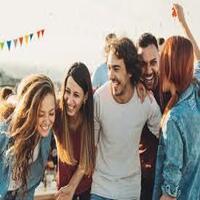person: (13, 65, 58, 143), (101, 22, 142, 104), (60, 52, 100, 129), (156, 24, 194, 93), (134, 27, 163, 91)
